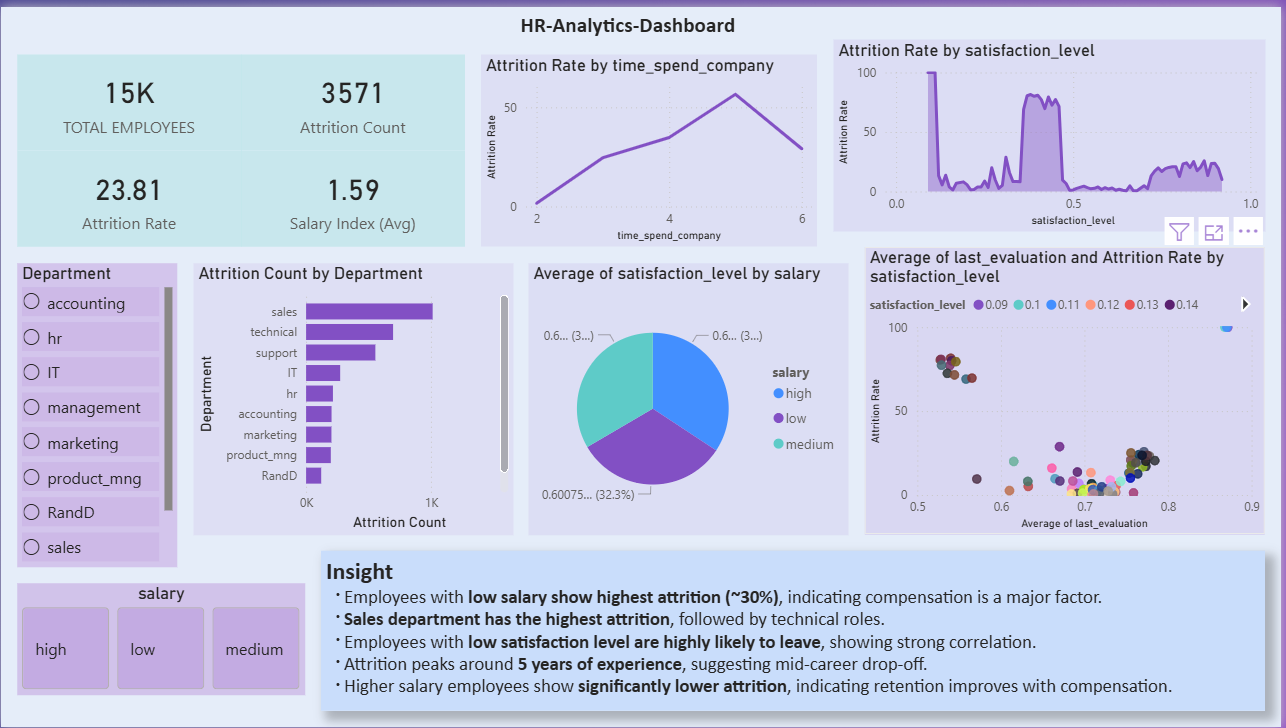

The page's visual inventory and layout, read from the dashboard file:
{"tool":"powerbi","page":{"name":"Page 1","canvas":[1280,720],"ordinal":0},"visuals":[{"type":"card","fields":{"Values":["HR_comma_sep.total employees"]},"box":[16.2,47.8,224,96],"z":0},{"type":"card","fields":{"Values":["HR_comma_sep.Attrition Rate"]},"box":[16.2,143.8,224,96],"z":1000},{"type":"card","fields":{"Values":["HR_comma_sep.Attrition Count"]},"box":[240.2,47.8,224,96],"z":2000},{"type":"card","fields":{"Values":["HR_comma_sep.Average Salary"]},"box":[240.2,143.8,224,96],"z":3000},{"type":"barChart","fields":{"Category":["HR_comma_sep.Department"],"Y":["HR_comma_sep.Attrition Count"]},"box":[192,256,320,272],"z":4000},{"type":"lineChart","fields":{"Category":["HR_comma_sep.time_spend_company"],"Y":["HR_comma_sep.Attrition Rate"]},"box":[480,48,336,192],"z":6000},{"type":"stackedAreaChart","fields":{"Category":["HR_comma_sep.satisfaction_level"],"Y":["HR_comma_sep.Attrition Rate"]},"box":[832,32,432,192],"z":7000},{"type":"pieChart","fields":{"Category":["HR_comma_sep.salary"],"Y":["Avg(HR_comma_sep.satisfaction_level)"]},"box":[528,256,320,272],"z":8000},{"type":"listSlicer","fields":{"Values":["HR_comma_sep.Department"]},"box":[16,256,160,304],"z":9000},{"type":"advancedSlicerVisual","fields":{"Values":["HR_comma_sep.salary"]},"box":[16,576,288,112],"z":9001},{"type":"textbox","box":[320,544,944,160],"z":9002},{"type":"scatterChart","fields":{"Y":["HR_comma_sep.Attrition Rate"],"Series":["HR_comma_sep.satisfaction_level"],"X":["Avg(HR_comma_sep.last_evaluation)"]},"box":[864,240,400,288],"z":9003},{"type":"textbox","box":[432,0,384,48],"z":9004}]}

Visuals, with their boxes in screenshot pixels (x1, y1, x2, y2), scaled from the page's 1280x720 canvas onto the 1286x728 screenshot:
card - HR_comma_sep.total employees: box=[16, 48, 241, 145]
card - HR_comma_sep.Attrition Rate: box=[16, 145, 241, 242]
card - HR_comma_sep.Attrition Count: box=[241, 48, 466, 145]
card - HR_comma_sep.Average Salary: box=[241, 145, 466, 242]
barChart - HR_comma_sep.Department x HR_comma_sep.Attrition Count: box=[193, 259, 514, 534]
lineChart - HR_comma_sep.time_spend_company x HR_comma_sep.Attrition Rate: box=[482, 49, 820, 243]
stackedAreaChart - HR_comma_sep.satisfaction_level x HR_comma_sep.Attrition Rate: box=[836, 32, 1270, 226]
pieChart - HR_comma_sep.salary x Avg(HR_comma_sep.satisfaction_level): box=[530, 259, 852, 534]
listSlicer - HR_comma_sep.Department: box=[16, 259, 177, 566]
advancedSlicerVisual - HR_comma_sep.salary: box=[16, 582, 305, 696]
textbox: box=[322, 550, 1270, 712]
scatterChart - HR_comma_sep.Attrition Rate x HR_comma_sep.satisfaction_level: box=[868, 243, 1270, 534]
textbox: box=[434, 0, 820, 49]
